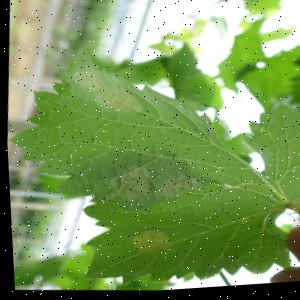Folha: (2, 32, 300, 300)
Fungo: (107, 164, 152, 203), (92, 84, 143, 117), (125, 228, 171, 257), (157, 174, 203, 202), (69, 64, 105, 92)
